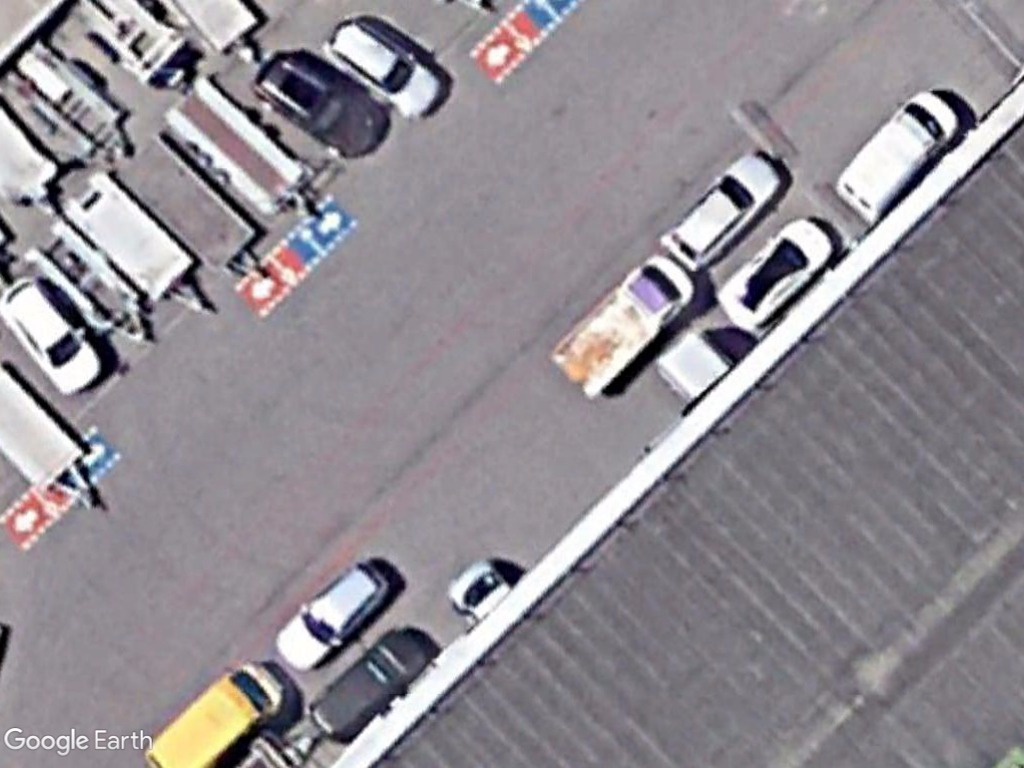car: (712, 209, 836, 346), (305, 621, 433, 746), (662, 148, 787, 271), (271, 556, 393, 673), (318, 15, 448, 124), (253, 54, 391, 153), (0, 274, 109, 394)
van: (547, 247, 694, 407), (829, 87, 963, 228)
